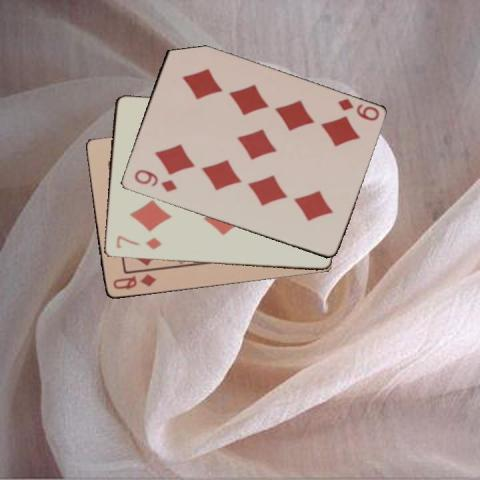7d: (113, 233, 163, 251)
9d: (131, 167, 178, 194), (334, 96, 381, 123)
Qd: (110, 271, 158, 292)
